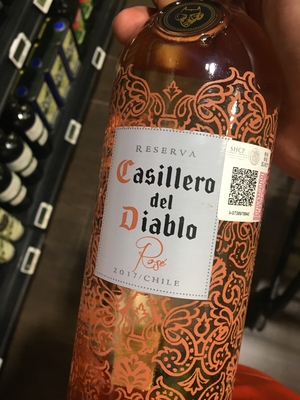casillero del diablo rose: (76, 11, 278, 400)
